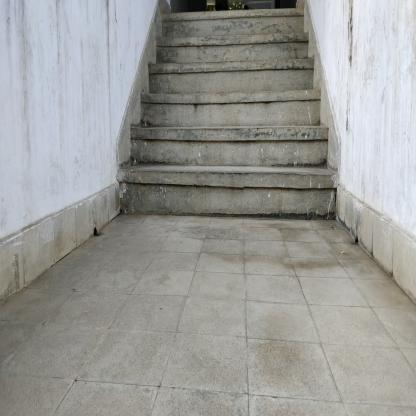stairs: (164, 23, 303, 241)
